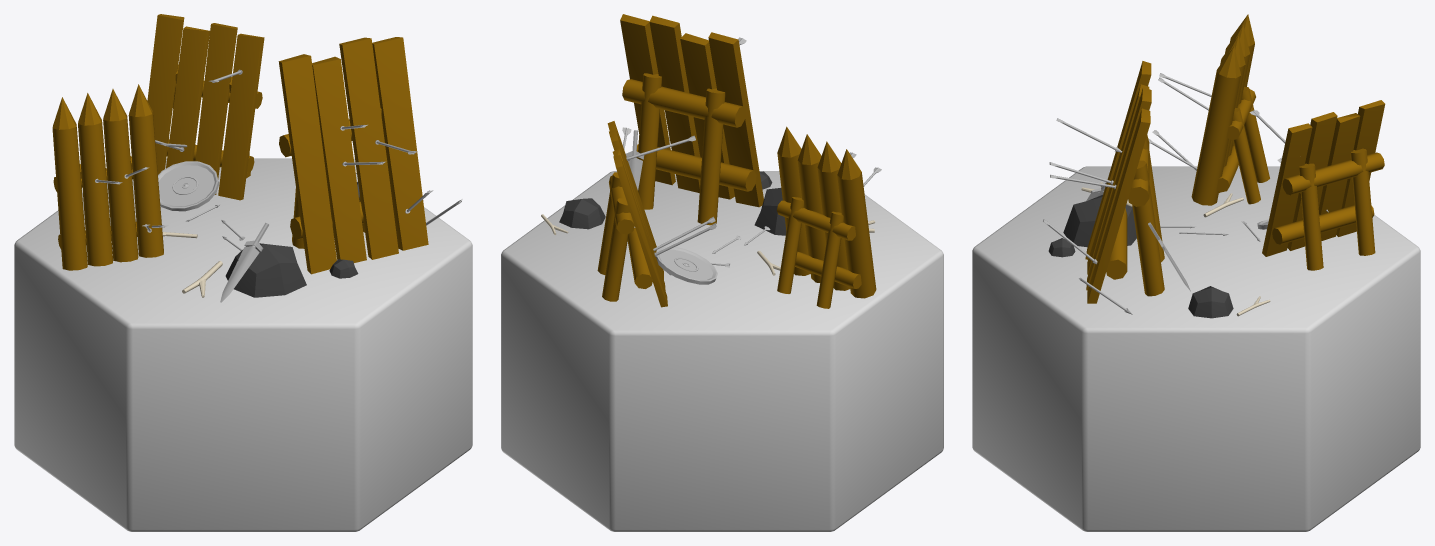
The model's file is cyl7.fbx.
3 renders of one model, left to right at view 1: azimuth 30°, elevation 25°; view 2: azimuth 150°, elevation 25°; view 3: azimuth 270°, elevation 25°, orthographic. The views are drawn at different scales.
Parts seen in each view (by area): view 1: Object007; view 2: Object007; view 3: Object007.
Part boxes in pixels (box(x1,y1,x2,y2)): Object007: box(14, 14, 472, 531); Object007: box(501, 14, 943, 531); Object007: box(972, 14, 1420, 531).
Size of the model in its own units: 173 by 195 by 199.
